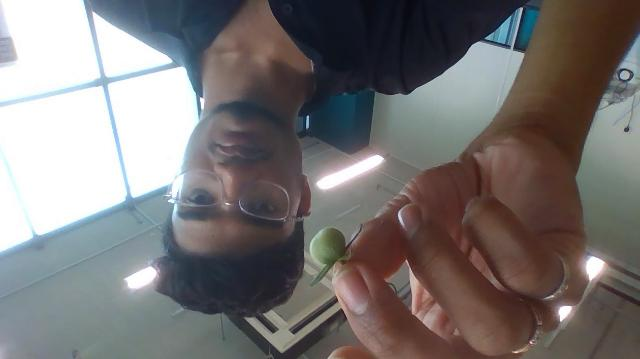Fruit Maturation: (308, 226, 347, 267)
